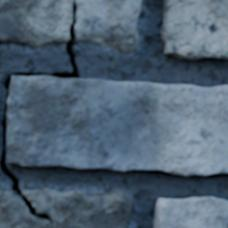brick: (8, 77, 227, 175), (161, 0, 227, 59), (154, 198, 227, 227)
broken_brick: (0, 0, 142, 53), (0, 187, 132, 227)
crack: (0, 2, 81, 225)
